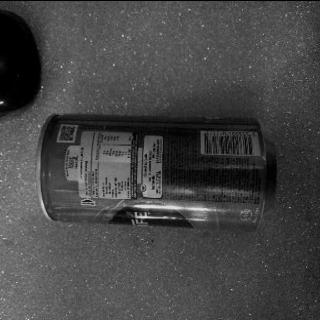alumunium_can: (34, 110, 274, 230)
